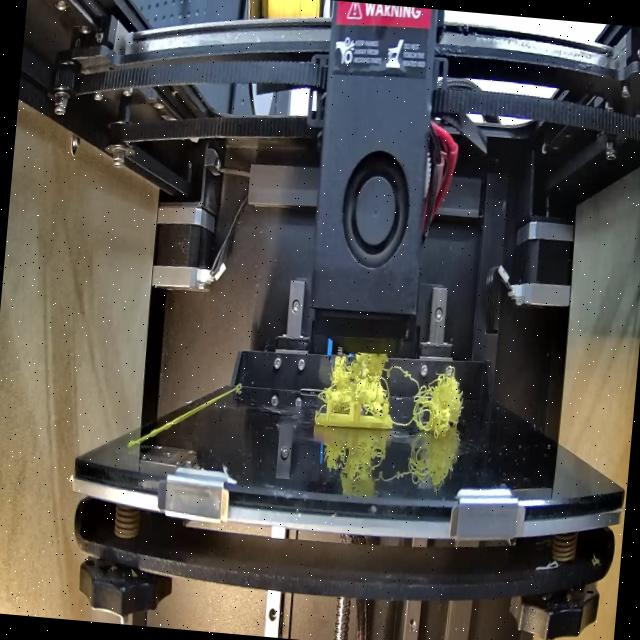spaghetti: (400, 354, 477, 440), (318, 344, 401, 417)
